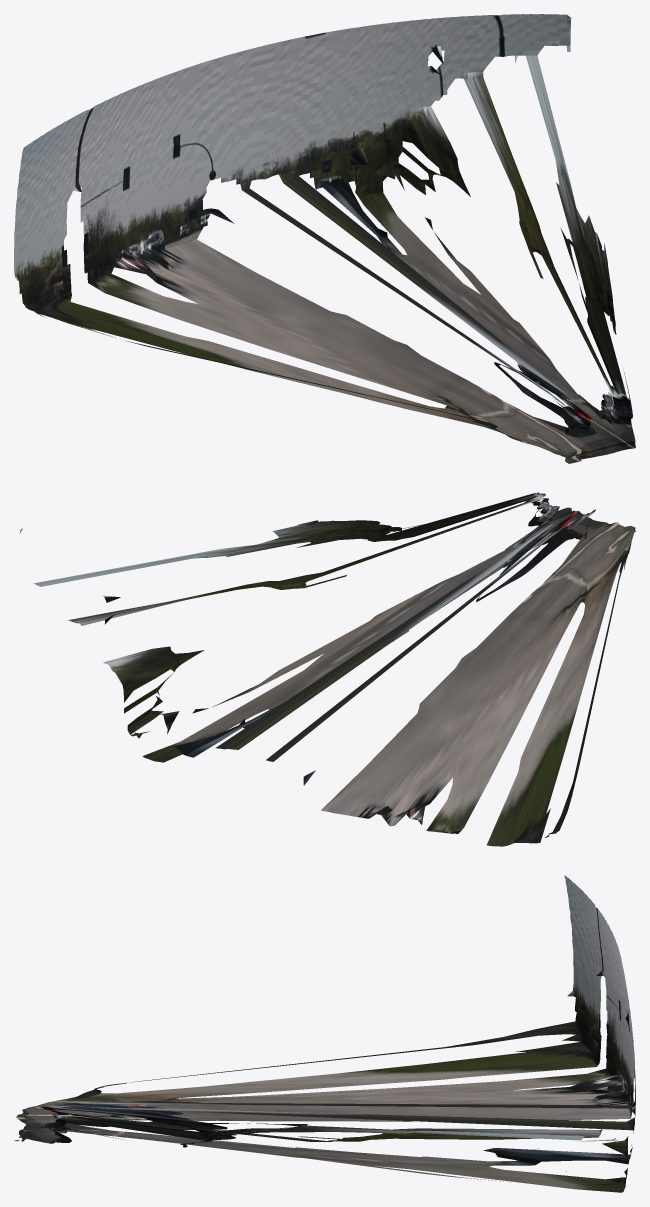
3 renders of one model, top to bottom at view 1: azimuth 30°, elevation 25°; view 2: azimuth 150°, elevation 25°; view 3: azimuth 270°, elevation 25°, orthographic. The views are drawn at different scales.
Visible parts, largest first — view 1: defaultobject; view 2: defaultobject; view 3: defaultobject.
Part boxes in pixels (<box>): defaultobject: <box>14,14,635,463</box>; defaultobject: <box>20,492,635,846</box>; defaultobject: <box>15,875,635,1192</box>.
Size of the model in its own units: 40.98 by 13.75 by 44.64.
Materials: 1 (1 with a texture image).
